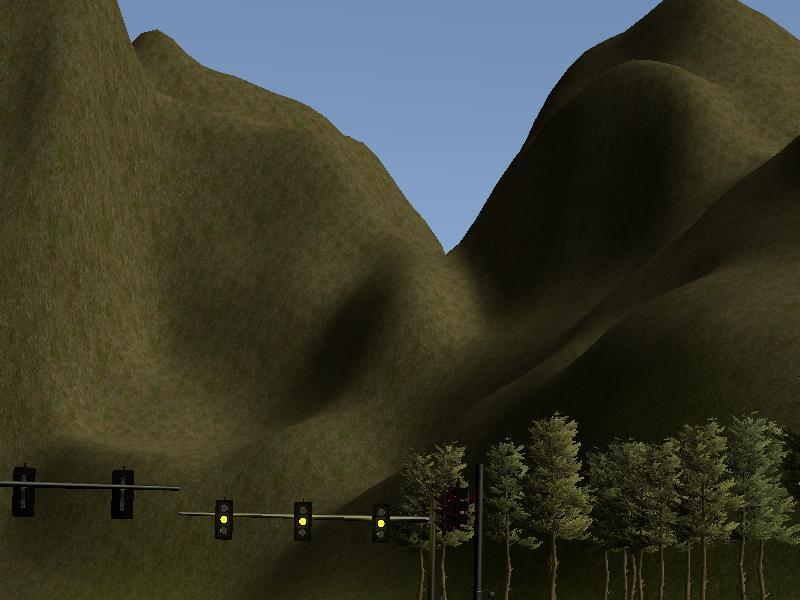Yellow: (291, 501, 312, 543), (213, 499, 233, 541), (370, 504, 390, 542)
